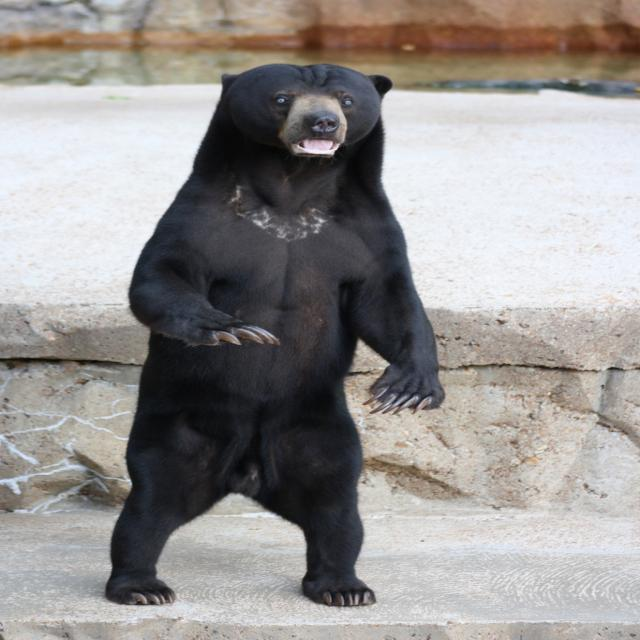Buffalo: (102, 62, 449, 606)
